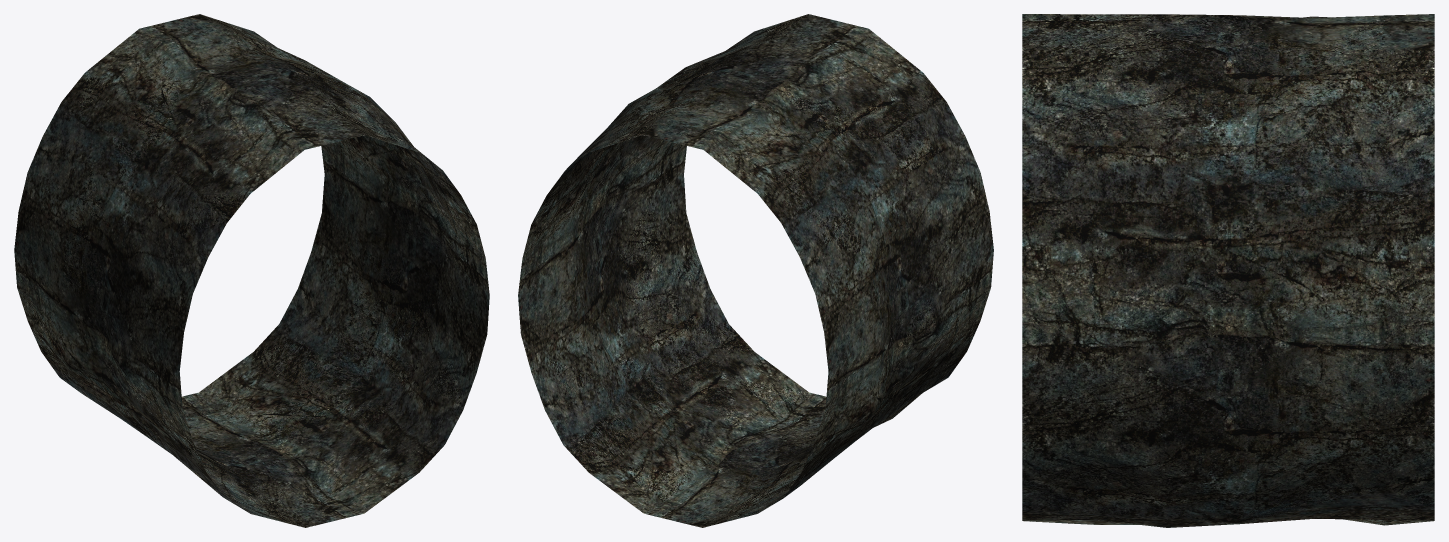
File: tunnel_theta_short.dae
The picture shows the model from 3 angles, left to right: view 1: azimuth 30°, elevation 25°; view 2: azimuth 150°, elevation 25°; view 3: azimuth 270°, elevation 25°; orthographic projection. The views are drawn at different scales.
Visible parts, largest first — view 1: straight_short; view 2: straight_short; view 3: straight_short.
Part boxes in pixels (box(x1,y1,x2,y2)): straight_short: box(14, 14, 489, 527); straight_short: box(518, 14, 993, 527); straight_short: box(1022, 14, 1434, 527).
Bounding box in the file's own units: 4.5 × 5.13 × 4.
